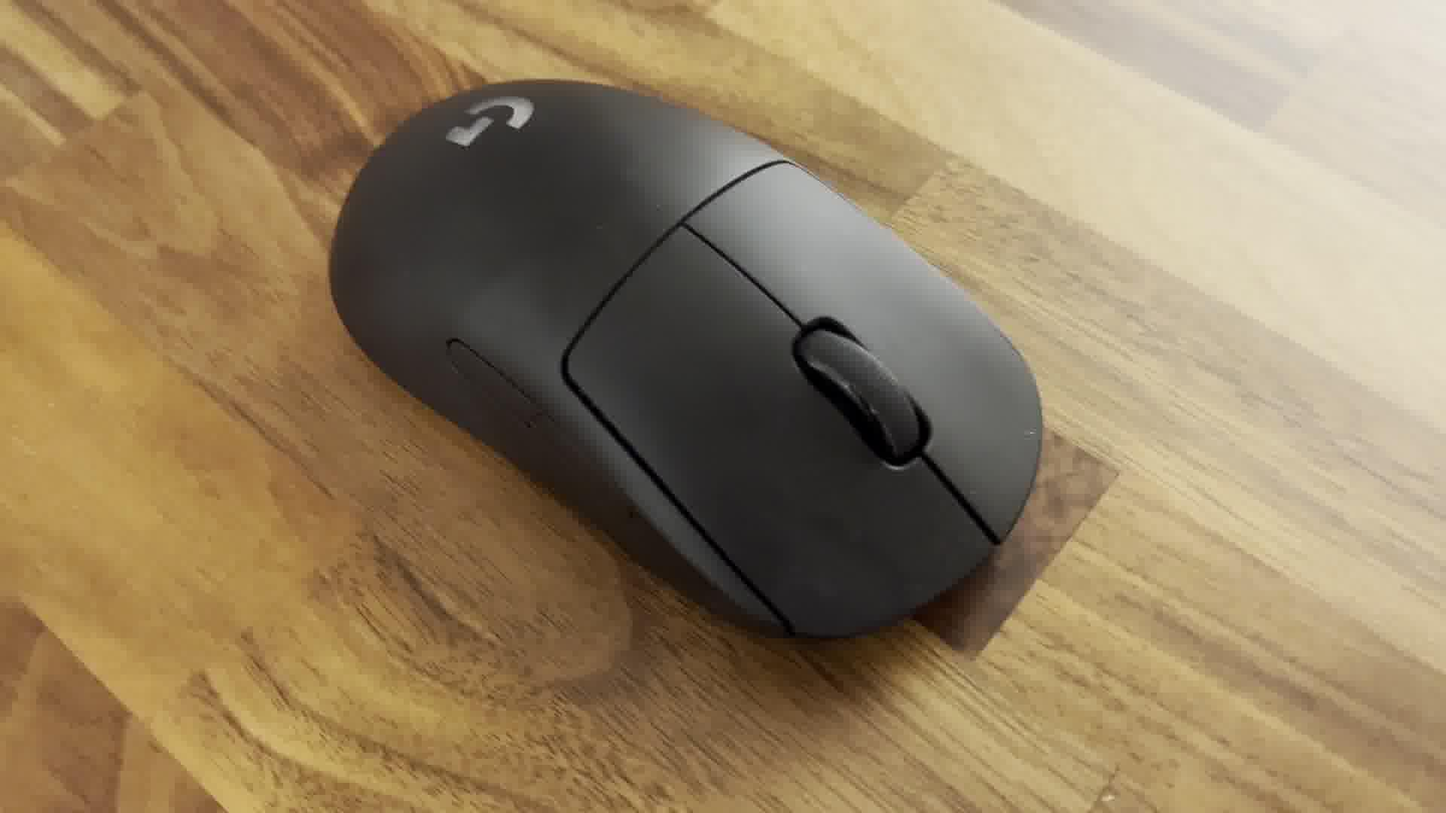mouse: (327, 71, 1045, 643)
